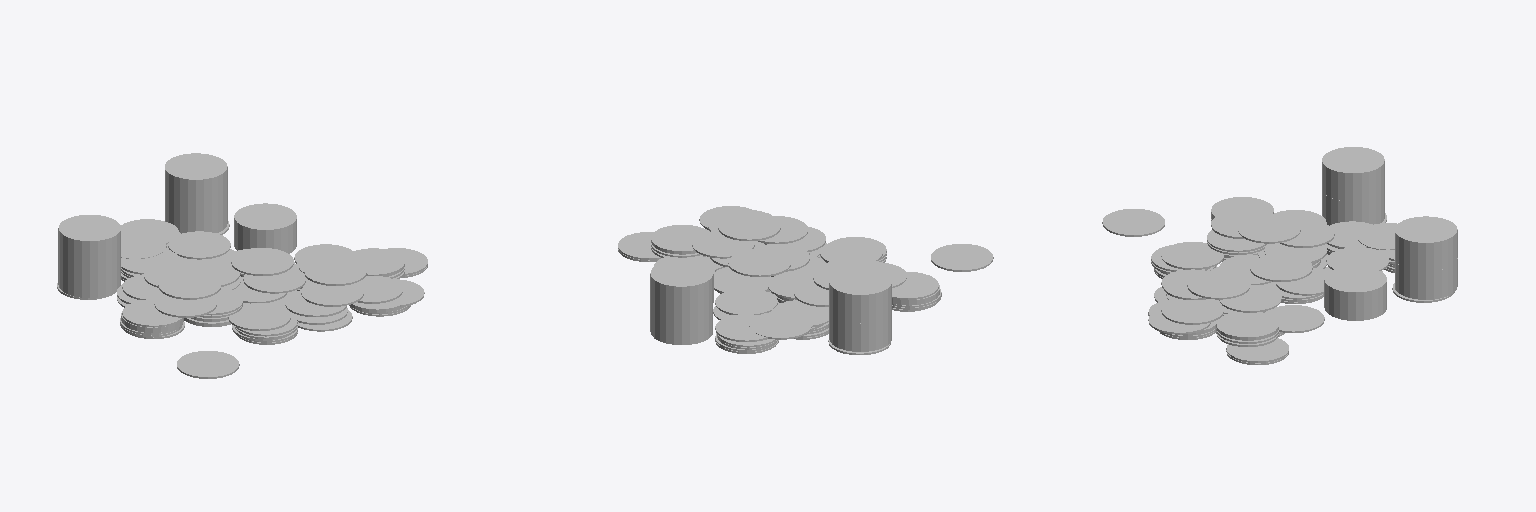
File: Coins.obj
The picture shows the model from 3 angles: view 1: azimuth 30°, elevation 25°; view 2: azimuth 150°, elevation 25°; view 3: azimuth 270°, elevation 25°; orthographic projection.
Visible parts, largest first — view 1: Mesh50 coin50 stack4 pile1 Model, Mesh153 coin153 pile1 Model, Mesh155 coin155 pile1 Model, Mesh157 coin157 pile1 Model, Mesh27 coin27 stack3 pile1 Model, Mesh72 coin72 pile1 Model, Mesh123 coin123 stack8 pile1 Model, Mesh137 coin137 pile1 Model, Mesh116 coin116 pile1 Model, Mesh169 coin169 pile1 Model, Mesh138 coin138 pile1 Model, Mesh114 coin114 pile1 Model (+13 smaller); view 2: Mesh155 coin155 pile1 Model, Mesh50 coin50 stack4 pile1 Model, Mesh153 coin153 pile1 Model, Mesh72 coin72 pile1 Model, Mesh27 coin27 stack3 pile1 Model, Mesh18 coin18 pile1 Model, Mesh137 coin137 pile1 Model, Mesh114 coin114 pile1 Model, Mesh156 coin156 pile1 Model, Mesh116 coin116 pile1 Model, Mesh89 coin89 pile1 Model, Mesh21 coin21 pile1 Model (+8 smaller); view 3: Mesh27 coin27 stack3 pile1 Model, Mesh123 coin123 stack8 pile1 Model, Mesh153 coin153 pile1 Model, Mesh155 coin155 pile1 Model, Mesh50 coin50 stack4 pile1 Model, Mesh72 coin72 pile1 Model, Mesh157 coin157 pile1 Model, Mesh114 coin114 pile1 Model, Mesh116 coin116 pile1 Model, Mesh115 coin115 pile1 Model, Mesh83 coin83 pile1 Model, Mesh156 coin156 pile1 Model (+12 smaller).
Part boxes in pixels (x1,y1,x2,y2): Mesh50 coin50 stack4 pile1 Model: (165, 153, 227, 181); Mesh153 coin153 pile1 Model: (231, 248, 293, 275); Mesh155 coin155 pile1 Model: (304, 258, 366, 285); Mesh157 coin157 pile1 Model: (158, 272, 220, 299); Mesh27 coin27 stack3 pile1 Model: (58, 215, 120, 242); Mesh72 coin72 pile1 Model: (177, 351, 239, 378); Mesh123 coin123 stack8 pile1 Model: (234, 203, 296, 231); Mesh137 coin137 pile1 Model: (168, 231, 230, 259); Mesh116 coin116 pile1 Model: (228, 303, 290, 330); Mesh169 coin169 pile1 Model: (301, 282, 363, 306); Mesh138 coin138 pile1 Model: (243, 268, 305, 293); Mesh114 coin114 pile1 Model: (348, 248, 404, 275); Mesh155 coin155 pile1 Model: (718, 213, 780, 240); Mesh50 coin50 stack4 pile1 Model: (650, 260, 712, 288); Mesh153 coin153 pile1 Model: (728, 249, 790, 276); Mesh72 coin72 pile1 Model: (931, 244, 993, 271); Mesh27 coin27 stack3 pile1 Model: (829, 268, 891, 296); Mesh18 coin18 pile1 Model: (749, 311, 811, 339); Mesh137 coin137 pile1 Model: (715, 288, 777, 314); Mesh114 coin114 pile1 Model: (651, 225, 709, 252); Mesh156 coin156 pile1 Model: (692, 231, 754, 258); Mesh116 coin116 pile1 Model: (820, 239, 882, 262); Mesh89 coin89 pile1 Model: (892, 272, 938, 299); Mesh21 coin21 pile1 Model: (715, 315, 767, 341); Mesh27 coin27 stack3 pile1 Model: (1322, 147, 1384, 174); Mesh123 coin123 stack8 pile1 Model: (1324, 266, 1386, 293); Mesh153 coin153 pile1 Model: (1250, 254, 1312, 281); Mesh155 coin155 pile1 Model: (1187, 271, 1249, 299); Mesh50 coin50 stack4 pile1 Model: (1395, 216, 1457, 244); Mesh72 coin72 pile1 Model: (1102, 209, 1164, 236); Mesh157 coin157 pile1 Model: (1238, 215, 1300, 243); Mesh114 coin114 pile1 Model: (1216, 312, 1278, 338); Mesh116 coin116 pile1 Model: (1161, 242, 1223, 269); Mesh115 coin115 pile1 Model: (1161, 298, 1223, 324); Mesh83 coin83 pile1 Model: (1265, 305, 1324, 332); Mesh156 coin156 pile1 Model: (1219, 284, 1281, 312).
Bounding box in the file's own units: 57.59 × 11.48 × 56.38.